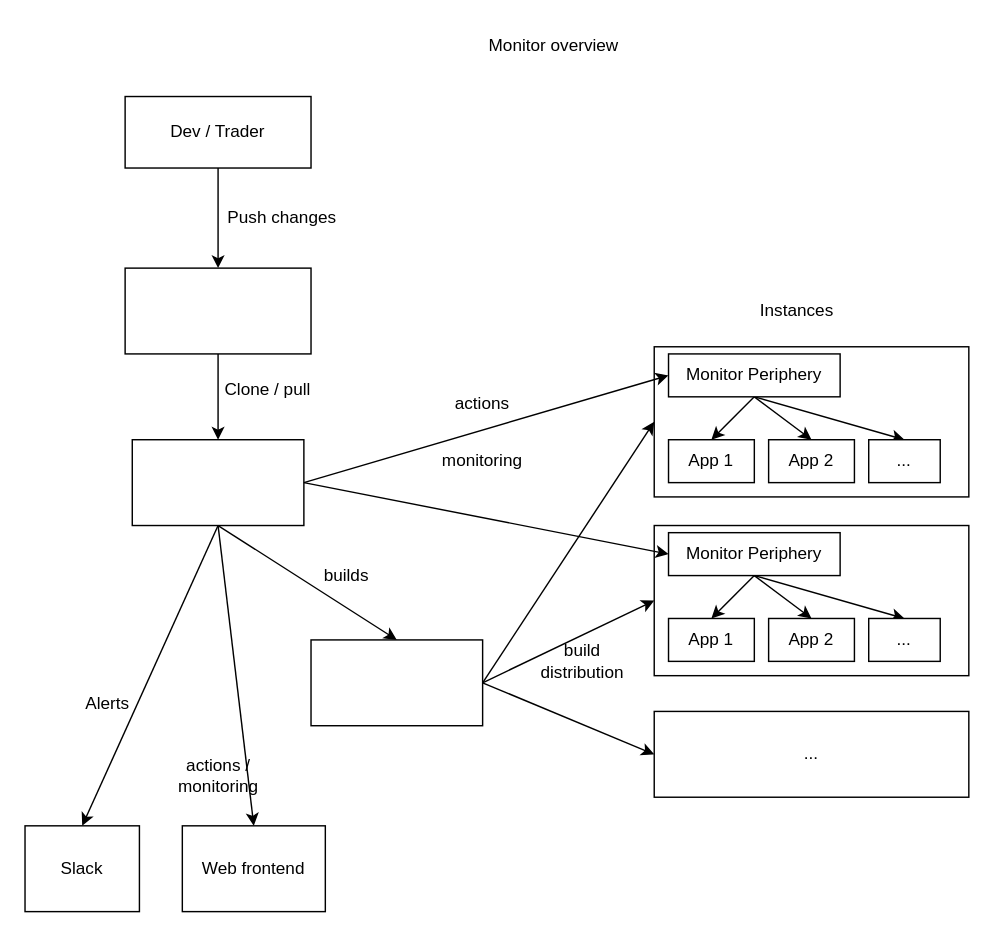
Image size: 994x937. Some labels were removed from this diagram. Here are the shapes that lost their labels. From the top down, the centre of each, then its label:
At pixel 217 310: "Github".
At pixel 217 482: "Monitor Core".
At pixel 396 682: "Docker Hub (image registry)".
